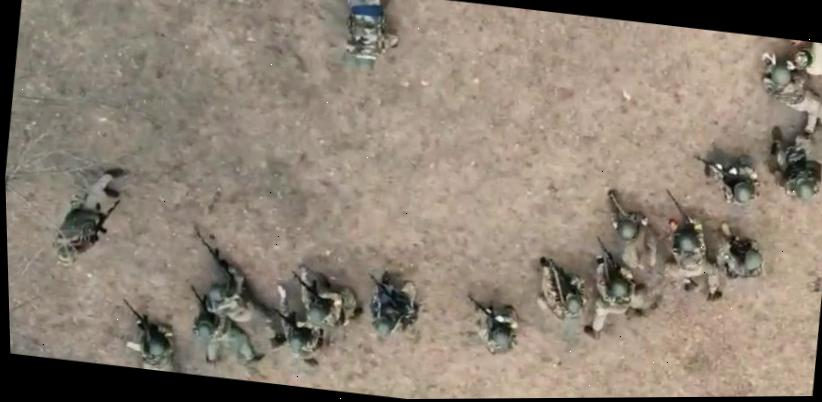person: (181, 229, 300, 354), (179, 273, 274, 372), (653, 189, 735, 303), (48, 161, 129, 270), (580, 235, 655, 346), (752, 51, 822, 141), (113, 297, 190, 373), (284, 263, 370, 331), (266, 284, 334, 368), (598, 189, 665, 272), (336, 0, 404, 74), (688, 149, 766, 208), (360, 268, 423, 338), (763, 125, 822, 199), (533, 254, 593, 323), (461, 294, 523, 357), (712, 220, 768, 282), (784, 38, 822, 77)
